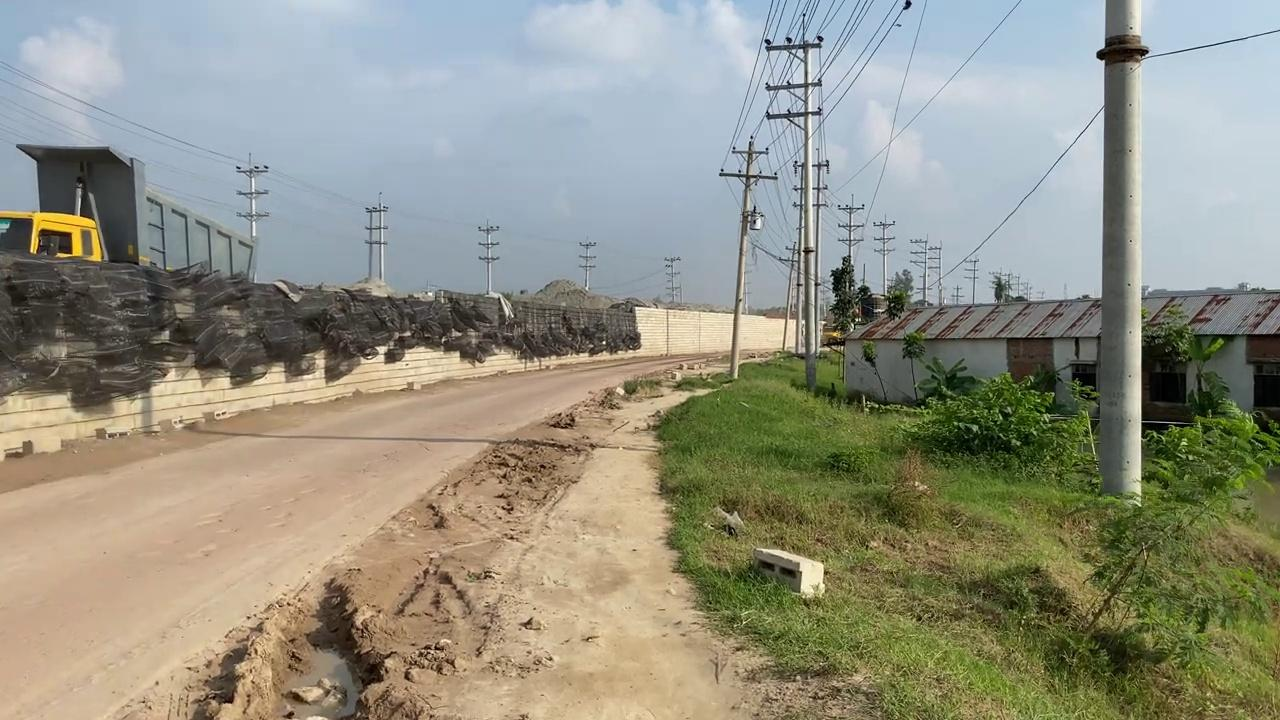Obstacle: (751, 546, 825, 599)
Pole: (1095, 0, 1147, 508), (763, 34, 824, 386), (719, 136, 778, 379)
Rickshaw: (282, 344, 785, 720)
Traffic-sign: (827, 253, 860, 333)
Tree: (2, 142, 260, 283), (0, 209, 105, 262)
Upstairs: (0, 248, 642, 406)
